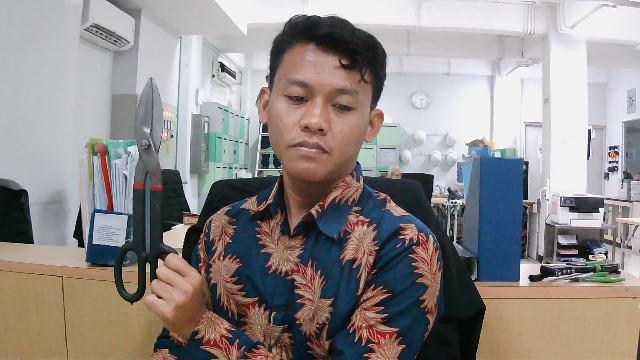gunting_plat: (78, 75, 221, 317)
